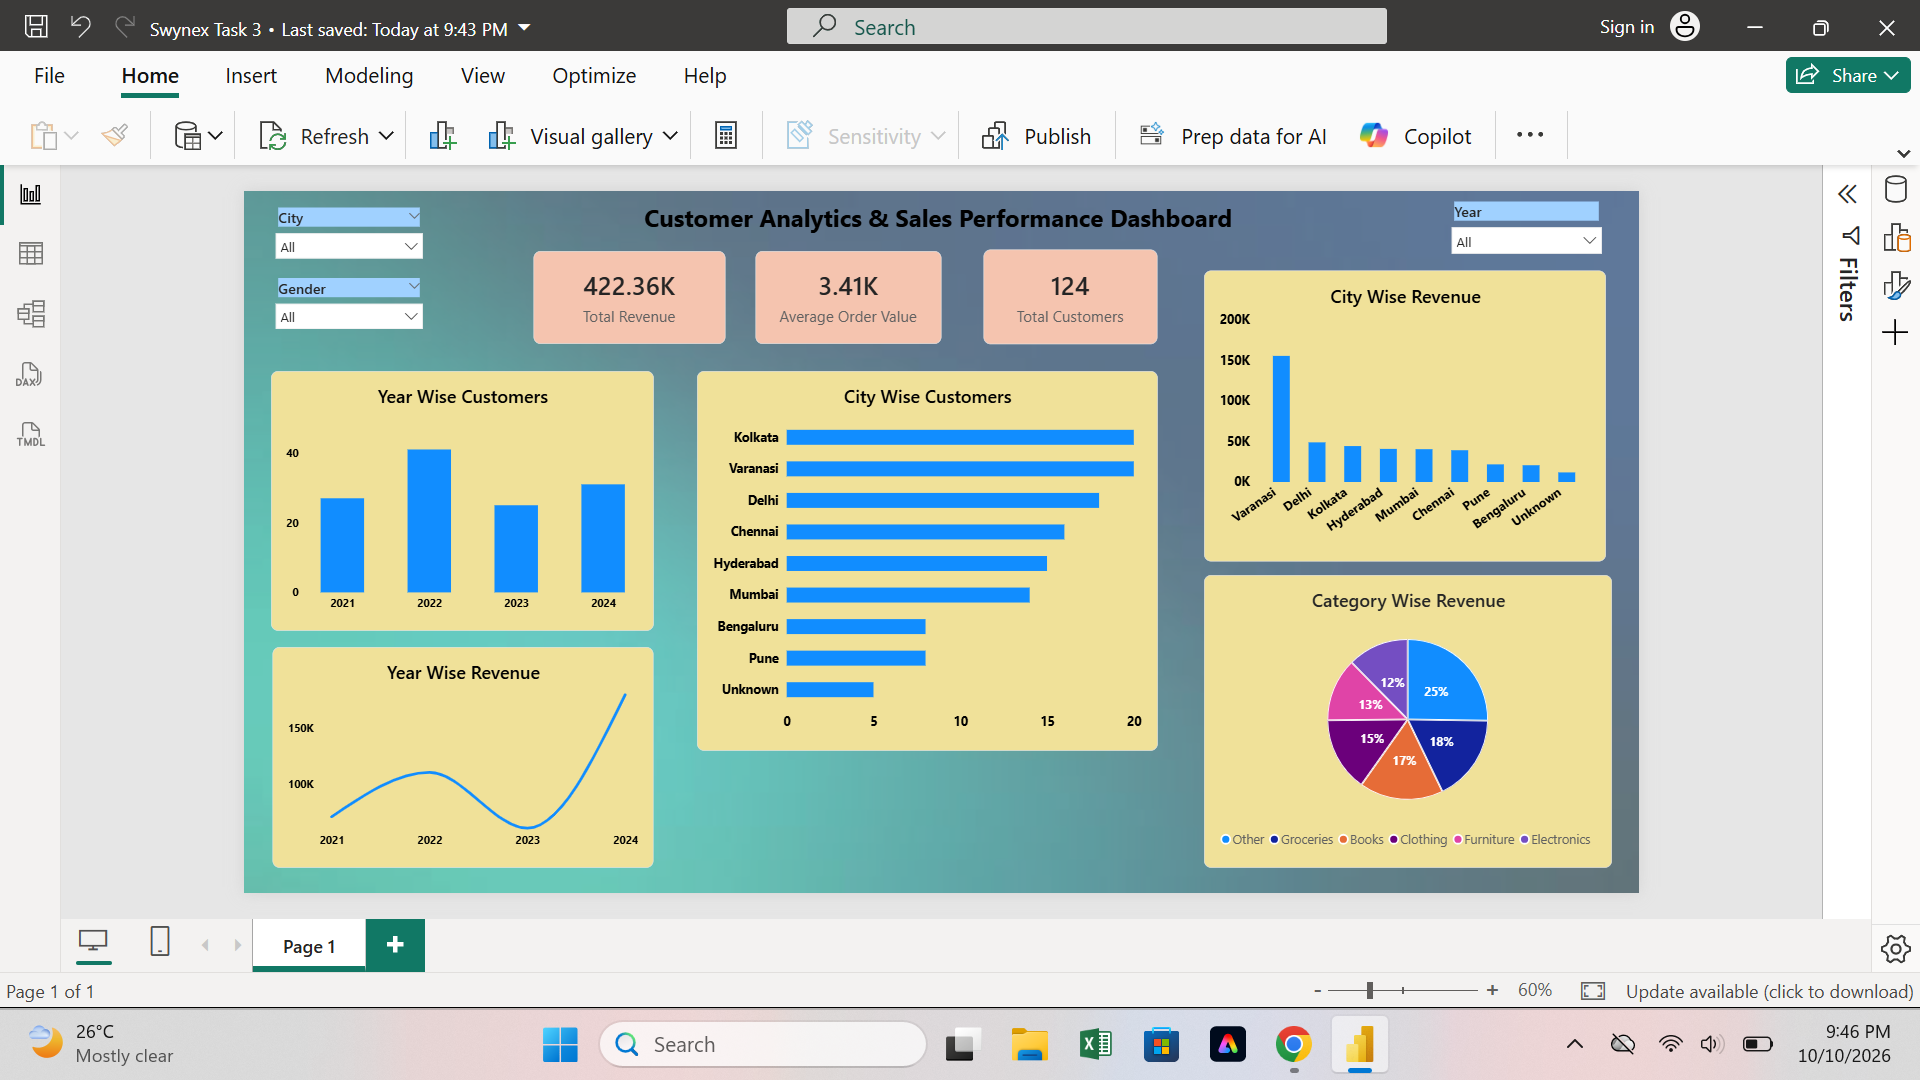

What the dashboard file says about the page in this screenshot:
{"tool":"powerbi","page":{"name":"Page 1","canvas":[1550,780],"ordinal":0},"visuals":[{"type":"slicer","fields":{"Values":["cleaned_data.City"]},"box":[30,27.1,172.9,104.3],"z":0},{"type":"slicer","fields":{"Values":["cleaned_data.Gender"]},"box":[30,107.1,172.9,102.9],"z":1000},{"type":"slicer","fields":{"Values":["cleaned_data.JoinDate.Variation.Date Hierarchy.Year"]},"box":[1337.1,27.1,175.7,60],"z":2000},{"type":"textbox","box":[430,18.6,690,48.6],"z":3000},{"type":"columnChart","title":"Year Wise Customers","fields":{"Category":["cleaned_data.JoinDate.Variation.Date Hierarchy.Year"],"Y":["_Measures.Total Customers"]},"box":[30,200,425.7,257.1],"z":4000},{"type":"clusteredBarChart","title":"City Wise Customers","fields":{"Category":["cleaned_data.City"],"Y":["_Measures.Total Customers"]},"box":[503.3,200,511.7,421.7],"z":5000},{"type":"lineChart","title":"Year Wise Revenue","fields":{"Category":["cleaned_data.JoinDate.Variation.Date Hierarchy.Year"],"Y":["_Measures.Total Revenue"]},"box":[30,477.1,424.3,257.1],"z":6000},{"type":"columnChart","title":"City Wise Revenue","fields":{"Category":["cleaned_data.City"],"Y":["_Measures.Total Revenue"]},"box":[1067.1,97.1,445.7,314.3],"z":7000},{"type":"pieChart","title":"Category Wise Revenue","fields":{"Category":["cleaned_data.ProductCategory"],"Y":["_Measures.Total Revenue"]},"box":[1067.1,432.9,452.9,301.4],"z":8000},{"type":"card","fields":{"Values":["_Measures.Total Customers"]},"box":[821.7,65,193.3,105],"z":9000},{"type":"card","fields":{"Values":["_Measures.Total Revenue"]},"box":[321.7,66.7,213.3,103.3],"z":10000},{"type":"card","fields":{"Values":["_Measures.Average Order Value"]},"box":[568.3,66.7,206.7,103.3],"z":11000}]}

Visuals, with their boxes on the page's 1550x780 design canvas (x1, y1, x2, y2). These are canvas units, not pixel positions in the 1920x1080 screenshot, which may show the page scaled, cropped or inside an application window:
slicer - cleaned_data.City: {"left": 30, "top": 27, "right": 203, "bottom": 131}
slicer - cleaned_data.Gender: {"left": 30, "top": 107, "right": 203, "bottom": 210}
slicer - cleaned_data.JoinDate.Variation.Date Hierarchy.Year: {"left": 1337, "top": 27, "right": 1513, "bottom": 87}
textbox: {"left": 430, "top": 19, "right": 1120, "bottom": 67}
"Year Wise Customers" columnChart: {"left": 30, "top": 200, "right": 456, "bottom": 457}
"City Wise Customers" clusteredBarChart: {"left": 503, "top": 200, "right": 1015, "bottom": 622}
"Year Wise Revenue" lineChart: {"left": 30, "top": 477, "right": 454, "bottom": 734}
"City Wise Revenue" columnChart: {"left": 1067, "top": 97, "right": 1513, "bottom": 411}
"Category Wise Revenue" pieChart: {"left": 1067, "top": 433, "right": 1520, "bottom": 734}
card - _Measures.Total Customers: {"left": 822, "top": 65, "right": 1015, "bottom": 170}
card - _Measures.Total Revenue: {"left": 322, "top": 67, "right": 535, "bottom": 170}
card - _Measures.Average Order Value: {"left": 568, "top": 67, "right": 775, "bottom": 170}
